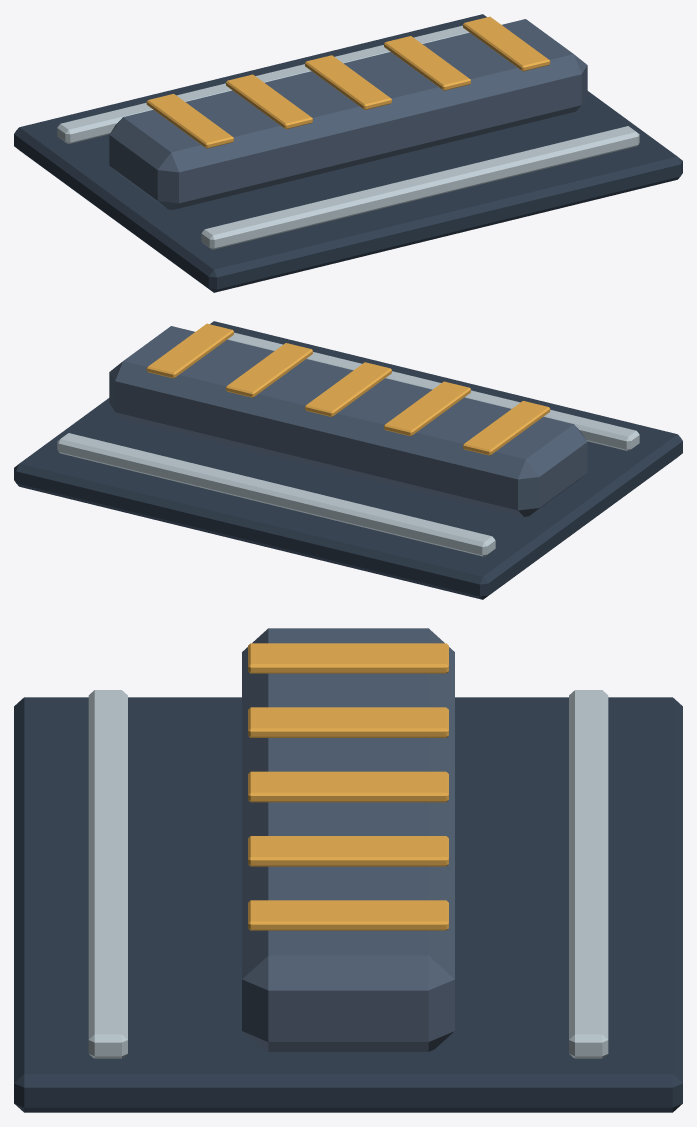
File: 10_Floor_Conduit.glb
The picture shows the model from 3 angles, top to bottom: view 1: azimuth 30°, elevation 25°; view 2: azimuth 150°, elevation 25°; view 3: azimuth 270°, elevation 25°; orthographic projection. The views are drawn at different scales.
Parts seen in each view (by area): view 1: 10_Floor_Conduit__Body; view 2: 10_Floor_Conduit__Body; view 3: 10_Floor_Conduit__Body.
Part boxes in pixels (<box>): 10_Floor_Conduit__Body: <box>14,14,682,292</box>; 10_Floor_Conduit__Body: <box>14,321,682,599</box>; 10_Floor_Conduit__Body: <box>14,628,682,1112</box>.
Size of the model in its own units: 3 by 0.5155 by 2.2.
1 material, 1 textured.
